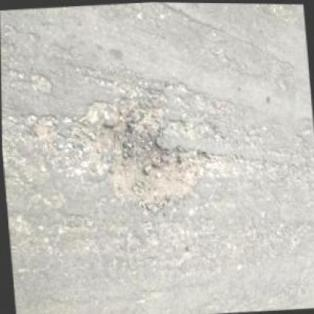Hueco: (72, 97, 214, 222)
